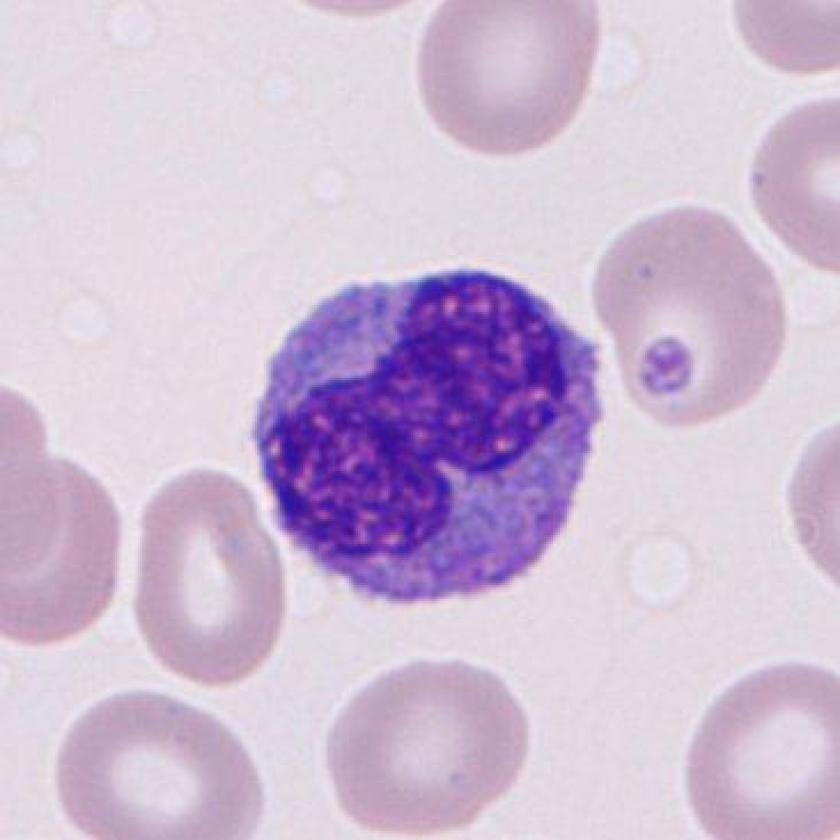monocyte: (228, 242, 630, 634)
